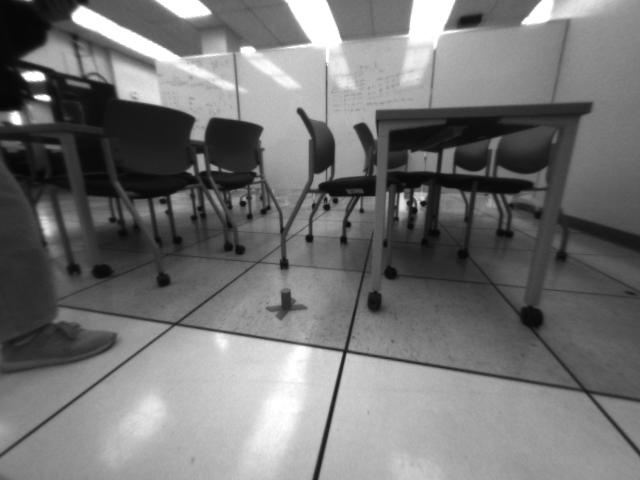x: (264, 288, 308, 323)
